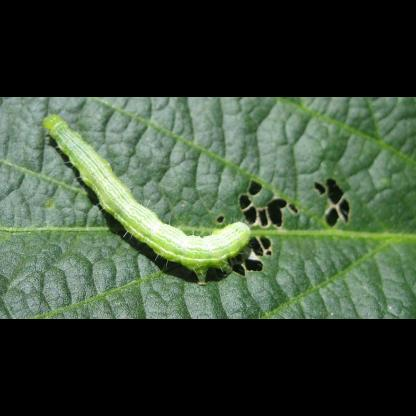agujero: (242, 180, 298, 228), (226, 229, 276, 279), (312, 173, 356, 227), (214, 210, 228, 226)
oruga: (32, 110, 254, 280)
